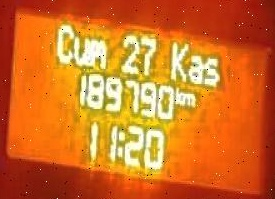0: (142, 127, 163, 168), (155, 82, 174, 118)
1: (87, 119, 97, 159), (107, 124, 117, 160), (78, 72, 86, 105)
2: (122, 124, 143, 165), (120, 32, 140, 73)
7: (138, 34, 156, 74), (123, 77, 138, 112)
8: (86, 72, 102, 107)
9: (138, 80, 156, 115), (103, 75, 121, 110)
X: (55, 22, 75, 62), (168, 39, 187, 80), (72, 34, 89, 64), (202, 55, 219, 85), (186, 52, 202, 83), (90, 37, 105, 67), (115, 127, 125, 157), (181, 88, 195, 107), (173, 83, 181, 107)
